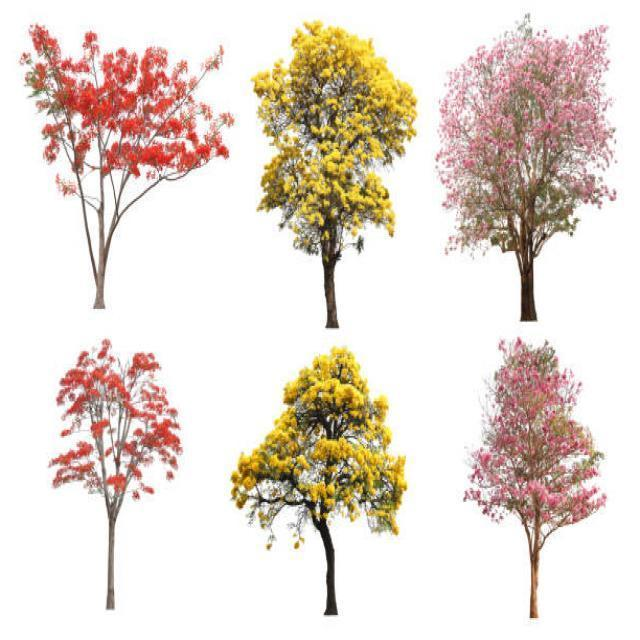tree: (11, 18, 241, 308), (426, 12, 622, 318), (250, 15, 414, 333), (238, 328, 408, 612), (454, 336, 610, 622), (42, 330, 186, 608)
